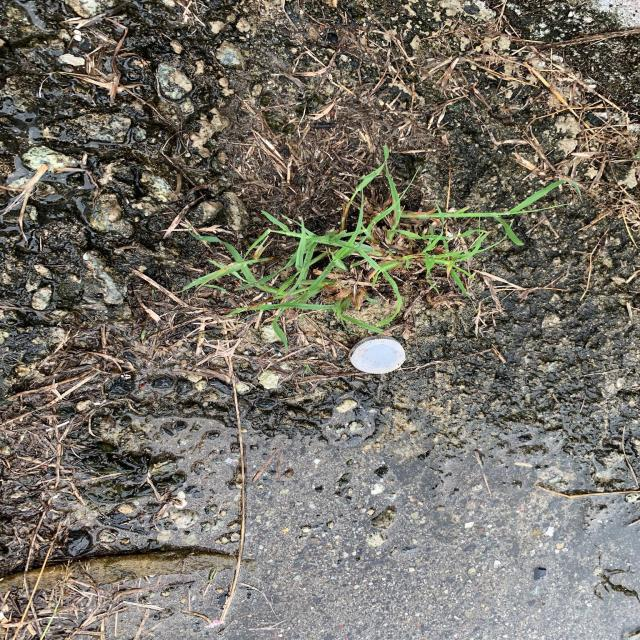litter: (351, 337, 406, 374)
